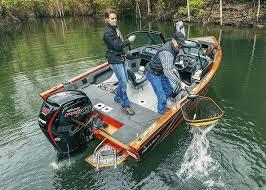fishing boat: (35, 7, 226, 171)
